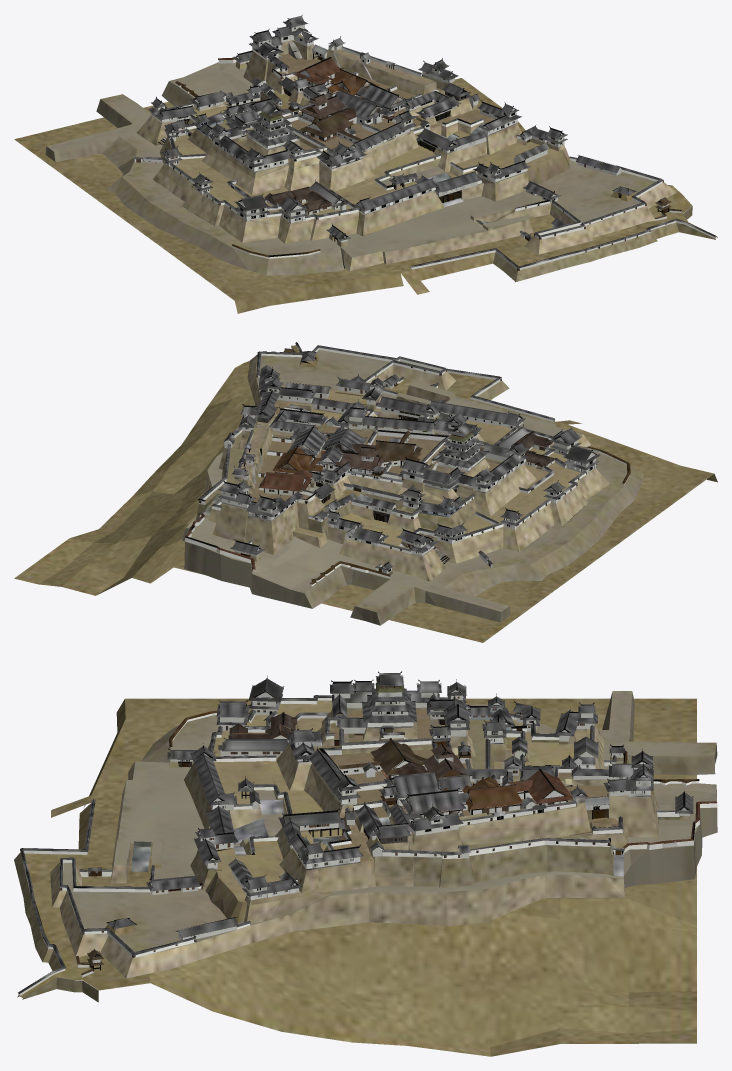
The model's file is tsuyama-castle.glb.
3 views of the same model, one above another, from view 1: azimuth 30°, elevation 25°; view 2: azimuth 150°, elevation 25°; view 3: azimuth 270°, elevation 25° (orthographic). The views are drawn at different scales.
Visible parts, largest first — view 1: Tsuyama Castle; view 2: Tsuyama Castle; view 3: Tsuyama Castle.
Part boxes in pixels (bbox=[...]): Tsuyama Castle: bbox=[14, 14, 717, 313]; Tsuyama Castle: bbox=[14, 342, 717, 642]; Tsuyama Castle: bbox=[14, 671, 717, 1056].
Bounding box in the file's own units: 1.91 × 0.5966 × 1.99.
Materials: 1 (1 with a texture image).
